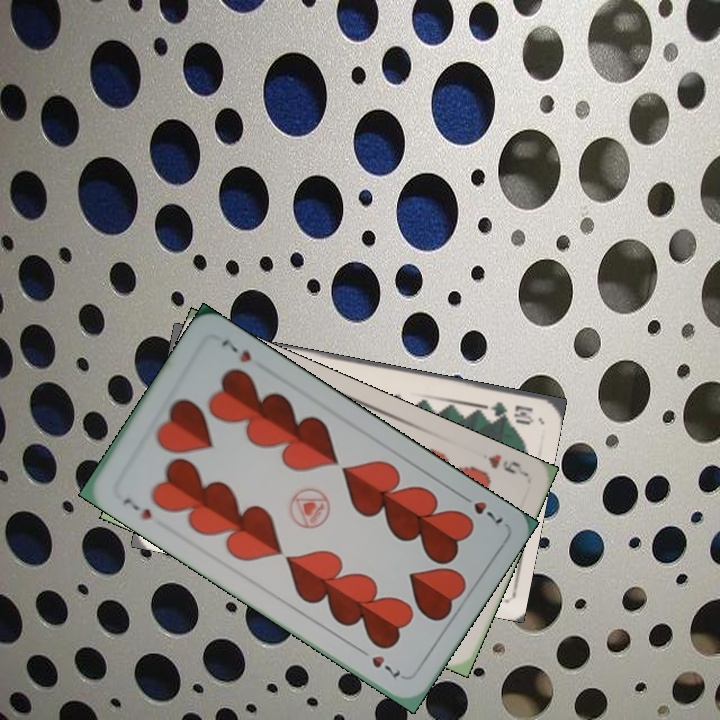G10: (477, 397, 536, 426)
H7: (455, 489, 506, 527), (118, 493, 155, 523)
H9: (484, 450, 528, 478)
